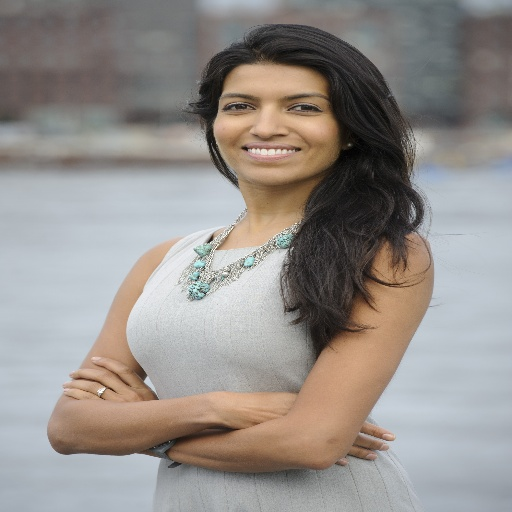hand: (228, 389, 395, 468), (66, 342, 167, 430)
